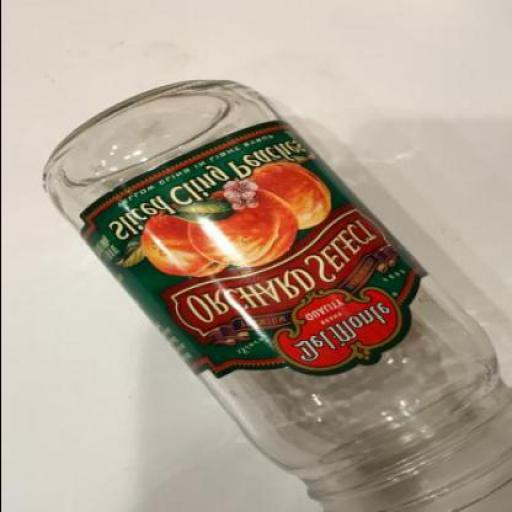glass: (40, 79, 510, 511)
